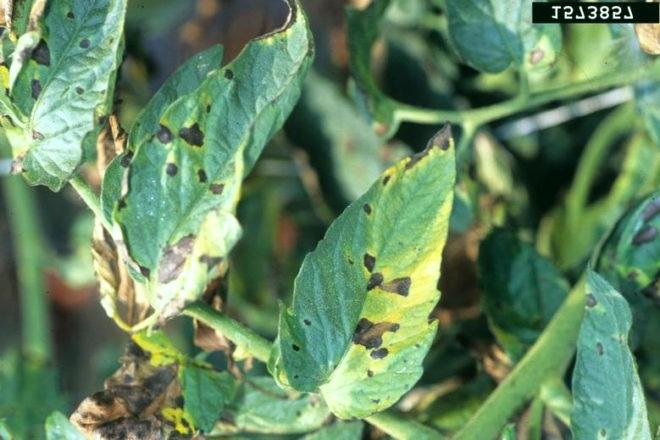Tomato Early blight leaf: (114, 24, 319, 315), (268, 143, 477, 410)
